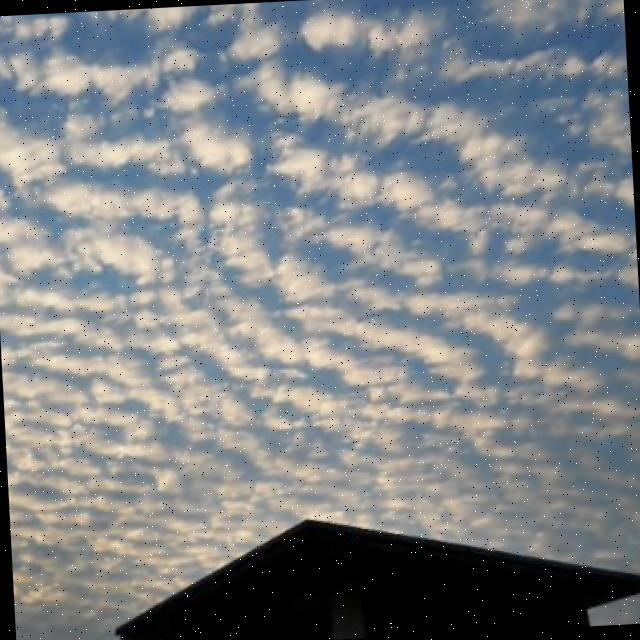Ac: (1, 25, 640, 487)
